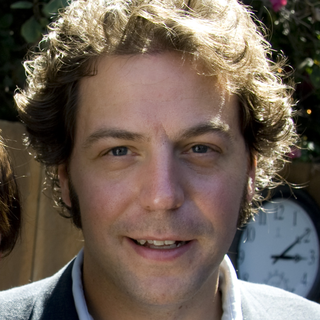eye: (90, 135, 145, 169), (168, 138, 229, 164)
